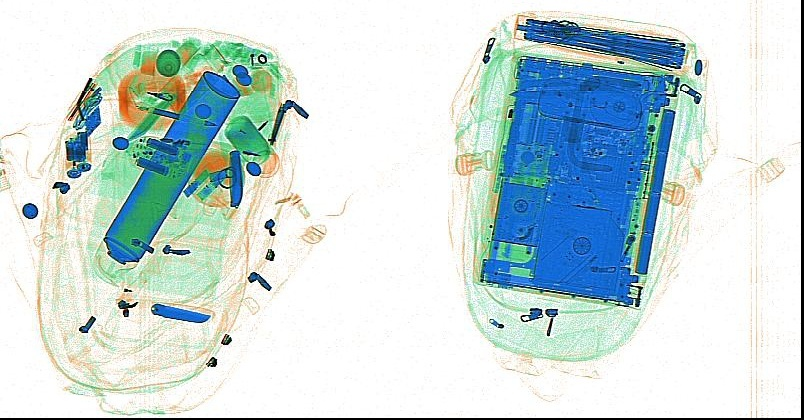knife: (507, 74, 642, 102), (149, 303, 214, 323), (266, 102, 286, 145), (228, 149, 242, 208)
pressure: (92, 70, 239, 288)
